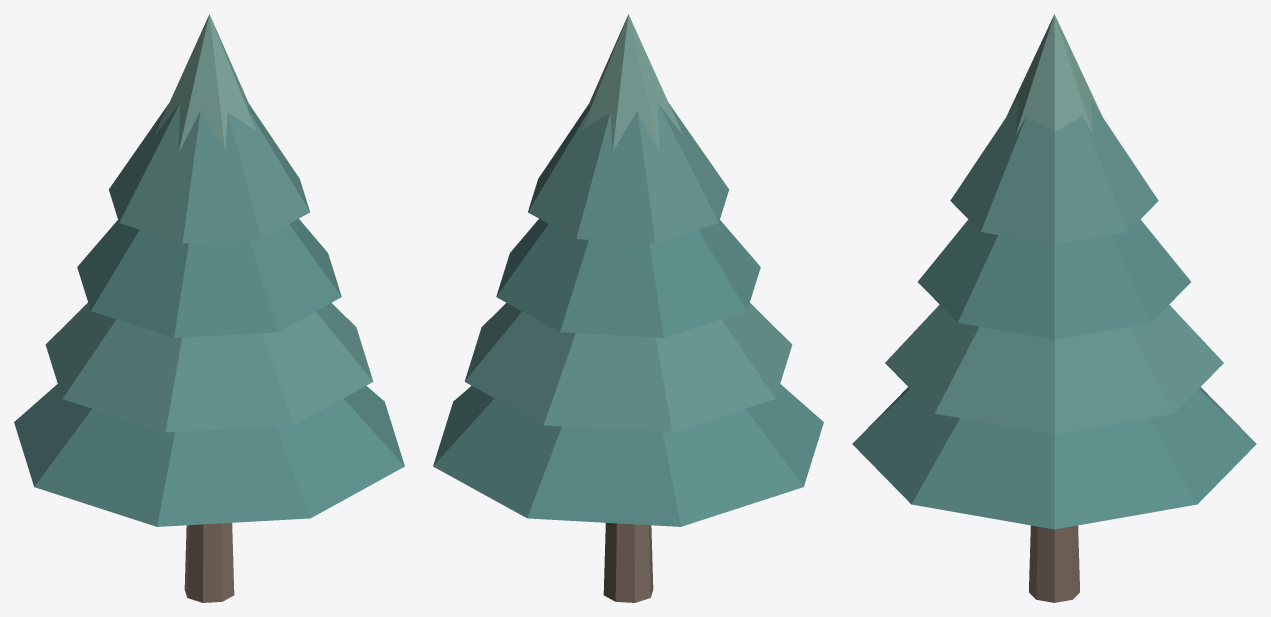
Rendered from pine.glb.
3 views of the same model, side by side, from view 1: azimuth 30°, elevation 25°; view 2: azimuth 150°, elevation 25°; view 3: azimuth 270°, elevation 25° (orthographic).
Parts seen in each view (by area): view 1: 段笠の針葉, まっすぐな幹; view 2: 段笠の針葉, まっすぐな幹; view 3: 段笠の針葉, まっすぐな幹.
Part boxes in pixels (x1,y1,x2,y2): 段笠の針葉: (14,14,404,526); まっすぐな幹: (184,523,234,602); 段笠の針葉: (433,14,823,526); まっすぐな幹: (603,523,653,602); 段笠の針葉: (852,14,1256,529); まっすぐな幹: (1029,525,1079,602).
Size of the model in its own units: 5.2 by 8.2 by 5.2.
